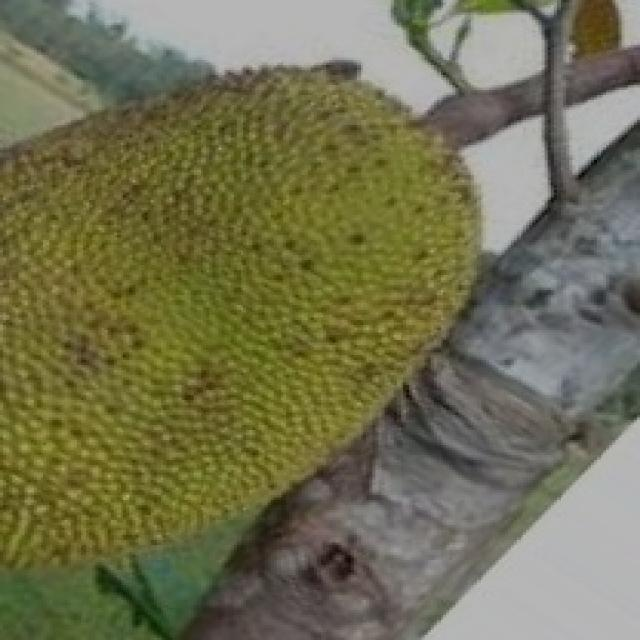Fruit: (170, 18, 538, 462), (0, 228, 409, 598)
